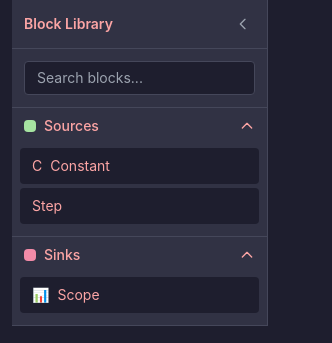
Scenario: Sidebar › category toggle › toggles category expansion on click
This screenshot has width=332, height=343.
Expected: the text "Scope" is shown, [58,285,100,305]
# Click to collapse sinks
Step 1. Click the button "Sinks" → (140, 255), box [12,237,267,273]
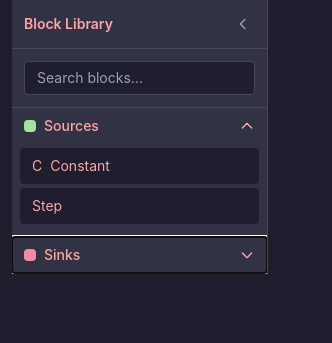
Result: the text "Scope" is gone
# Click again to expand
Step 2. Click the button "Sinks" → (140, 255), box [12,237,267,273]
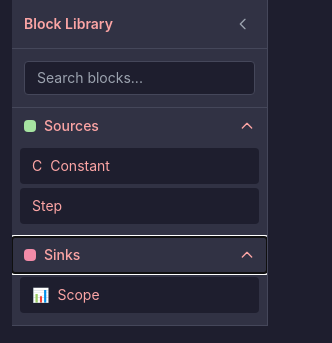
Result: the text "Scope" is shown at [58,285,100,305]
